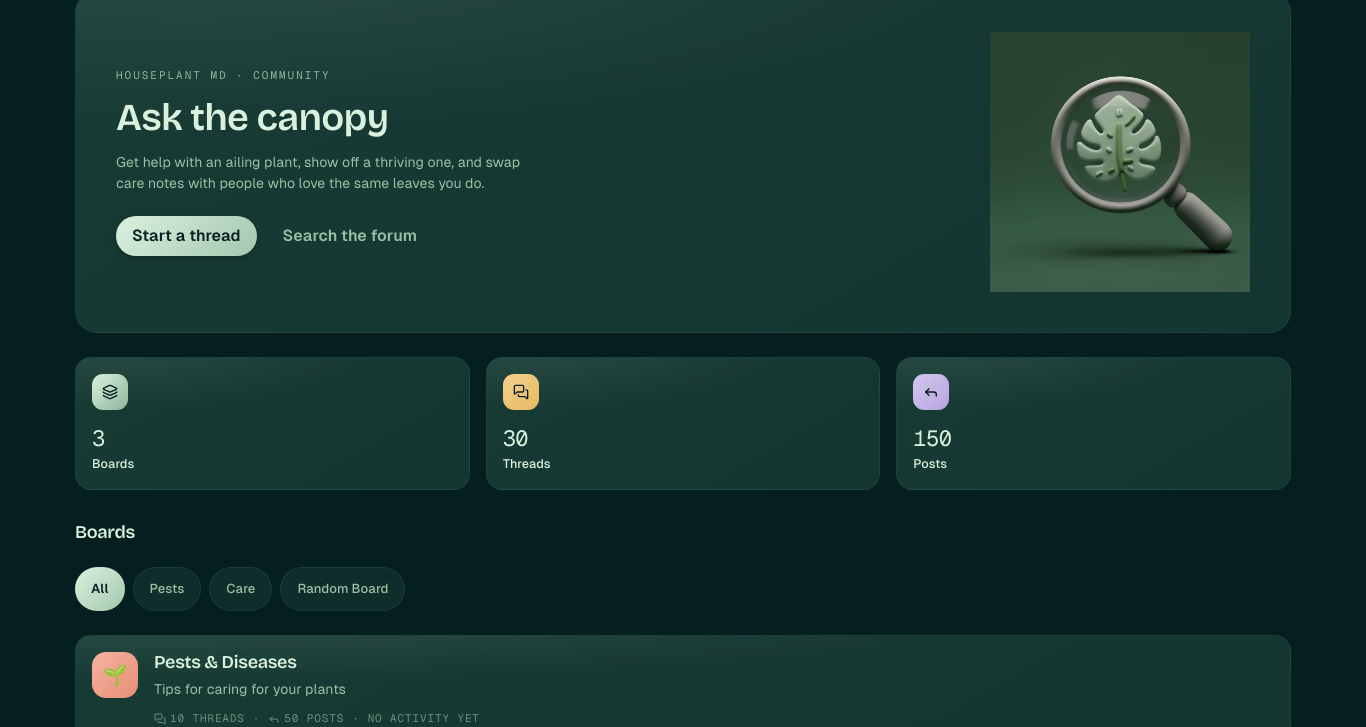
Test: CategoryListPage › board filter chips › filters the board list when a chip is clicked, and restores on a second click
Expected: the heading "Pests & Diseases" is shown, [154,651,296,673]
Click the button "Pests".
click(167, 589)  # box [132,567,201,611]
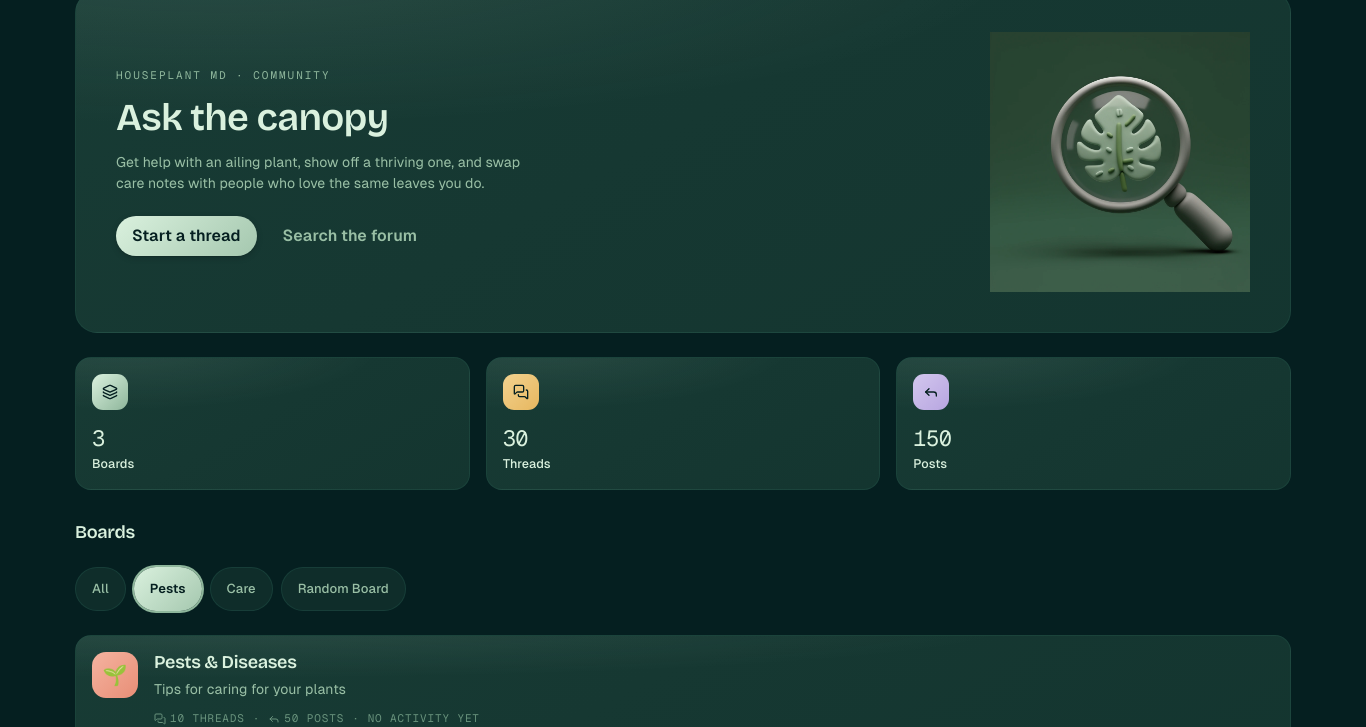
Expected: the heading "Pests & Diseases" is shown, [154,651,296,673]
Expected: the button "Pests" is pressed
# Clicking the same chip again clears the filter.
Click the button "Pests".
click(168, 589)  # box [134,567,202,611]
(page scrolled)
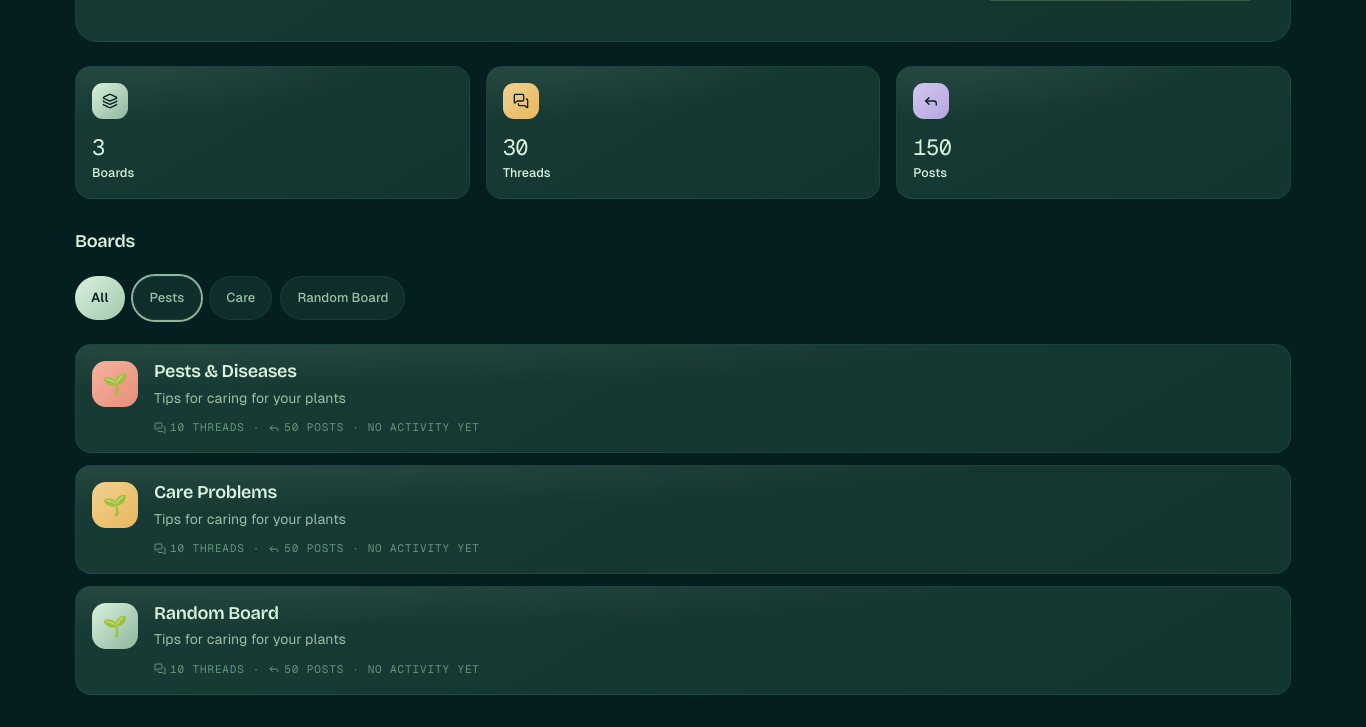
Expected: the heading "Pests & Diseases" is shown, [154,360,296,382]
Expected: the heading "Care Problems" is shown, [154,481,277,503]
Expected: the heading "Random Board" is shown, [154,602,279,624]
